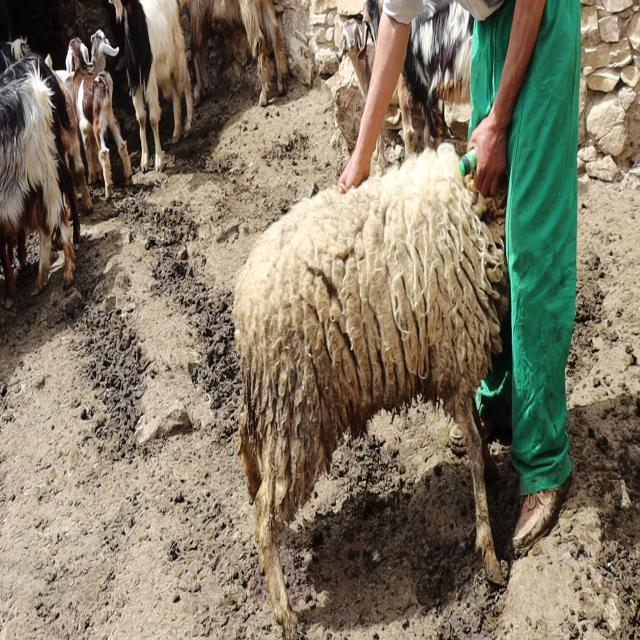Score_2: (234, 144, 510, 632)
